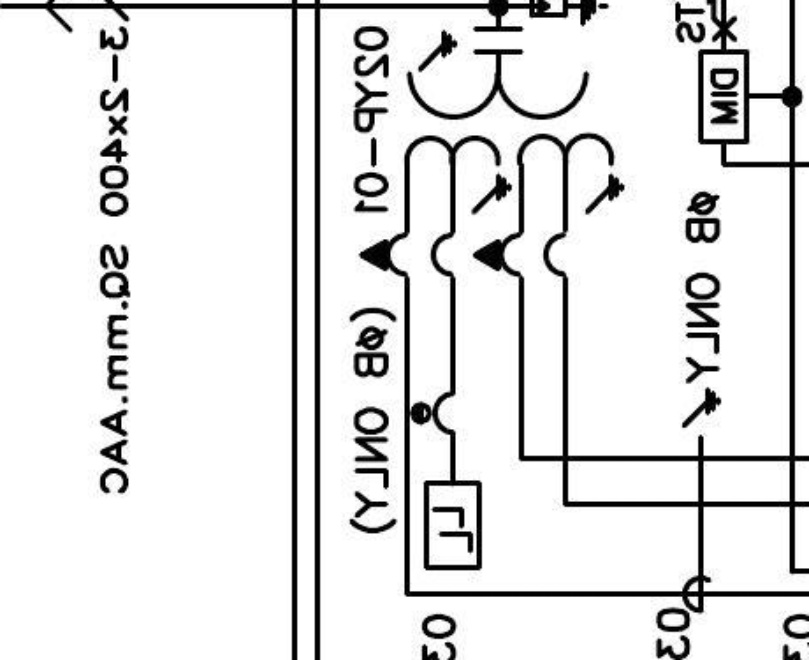115_cvt_1p: (358, 25, 626, 281)
DIM: (698, 49, 750, 145)
LL: (423, 480, 483, 571)
